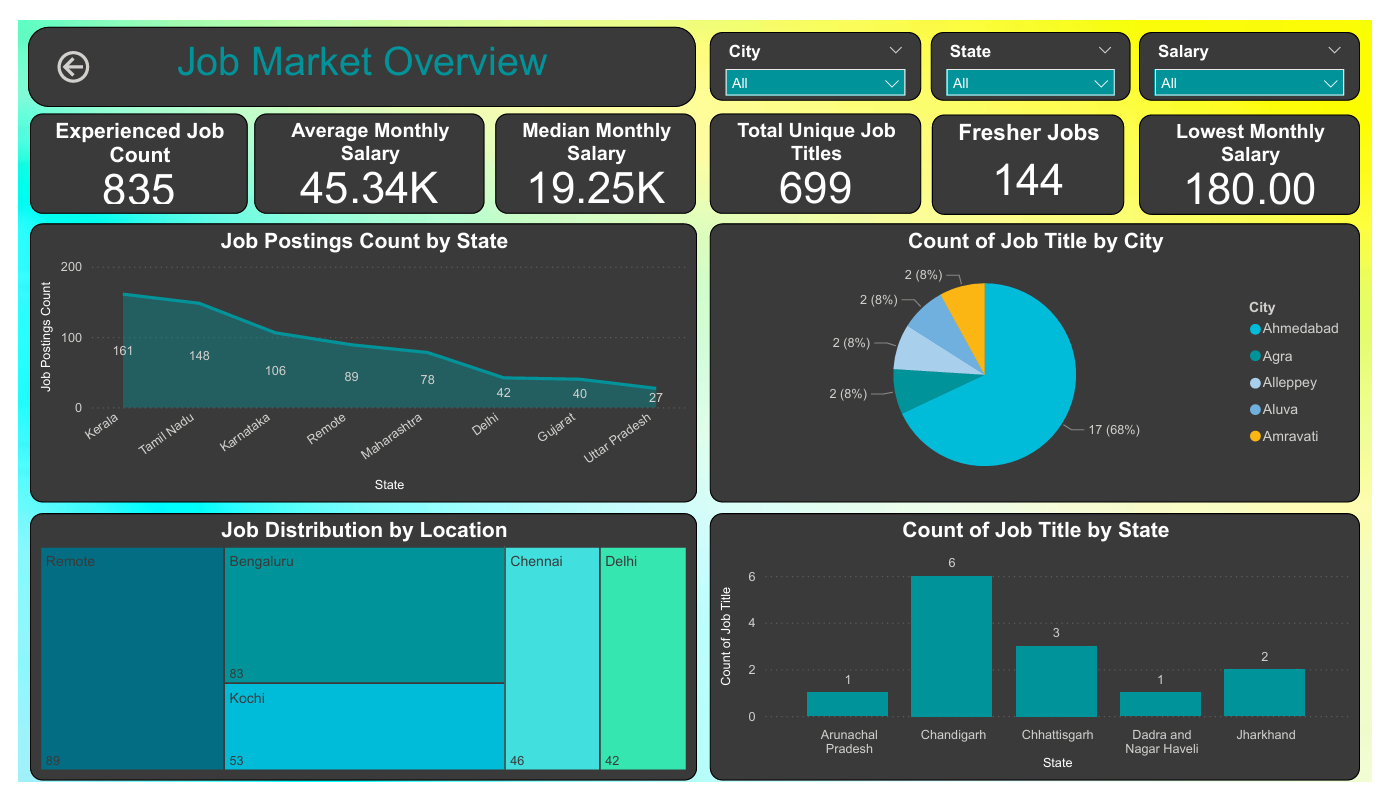

The dashboard page shown, as its layout file describes it:
{"tool":"powerbi","page":{"name":"Job Market Overview","canvas":[1280,720],"ordinal":11},"visuals":[{"type":"textbox","box":[9.1,6.1,631.4,75.7],"z":0},{"type":"card","title":"Experienced Job Count","fields":{"Values":["job_market.Total Jobs"]},"box":[10.6,87.8,205.9,95],"z":1000},{"type":"card","title":"Average Monthly Salary","fields":{"Values":["job_market.Average Monthly Salary"]},"box":[222.6,87.8,218,95],"z":2000},{"type":"card","title":"Median Monthly Salary","fields":{"Values":["job_market.Median Monthly Salary"]},"box":[451.2,87.8,189.3,95],"z":3000},{"type":"card","title":"Total Unique Job Titles","fields":{"Values":["job_market.Total Unique Job Titles"]},"box":[654.1,87.8,199.9,95],"z":4000},{"type":"card","title":"Fresher Jobs","fields":{"Values":["job_market.Fresher Jobs"]},"box":[863.6,88.5,182.9,95.8],"z":5000},{"type":"card","title":"Lowest Monthly Salary","fields":{"Values":["job_market.Lowest Monthly Salary"]},"box":[1059.5,88.5,209,95.8],"z":6000},{"type":"stackedAreaChart","fields":{"Category":["job_market.State"],"Y":["job_market.Job Postings Count"]},"box":[10.6,192.3,631.4,263.5],"z":7000},{"type":"treemap","title":"Job Distribution by Location","fields":{"Group":["job_market.City"],"Values":["CountNonNull(job_market.Job Title)"]},"box":[10.6,466.4,631.4,252.9],"z":8000},{"type":"pieChart","fields":{"Y":["CountNonNull(job_market.Job Title)"],"Category":["job_market.City"]},"box":[654.1,192.3,614.8,263.5],"z":9000},{"type":"columnChart","fields":{"Category":["job_market.State"],"Y":["CountNonNull(job_market.Job Title)"]},"box":[654.1,466.4,614.8,252.9],"z":10000},{"type":"slicer","fields":{"Values":["job_market.City"]},"box":[654.1,10.6,199.9,65.1],"z":11000},{"type":"slicer","fields":{"Values":["job_market.State"]},"box":[863.1,10.6,189.3,65.1],"z":12000},{"type":"slicer","fields":{"Values":["job_market.Salary"]},"box":[1059.9,10.6,209,65.1],"z":13000},{"type":"actionButton","box":[31.8,24.2,99.9,39.4],"z":14000}]}

Visuals, with their boxes in screenshot pixels (x1, y1, x2, y2), scaled from the page's 1280x720 canvas onto the 1393x786 screenshot:
textbox: [10, 7, 697, 89]
"Experienced Job Count" card: [12, 96, 236, 200]
"Average Monthly Salary" card: [242, 96, 479, 200]
"Median Monthly Salary" card: [491, 96, 697, 200]
"Total Unique Job Titles" card: [712, 96, 929, 200]
"Fresher Jobs" card: [940, 97, 1139, 201]
"Lowest Monthly Salary" card: [1153, 97, 1380, 201]
stackedAreaChart - job_market.State x job_market.Job Postings Count: [12, 210, 699, 498]
"Job Distribution by Location" treemap: [12, 509, 699, 785]
pieChart - CountNonNull(job_market.Job Title) x job_market.City: [712, 210, 1381, 498]
columnChart - job_market.State x CountNonNull(job_market.Job Title): [712, 509, 1381, 785]
slicer - job_market.City: [712, 12, 929, 83]
slicer - job_market.State: [939, 12, 1145, 83]
slicer - job_market.Salary: [1153, 12, 1381, 83]
actionButton: [35, 26, 143, 69]
